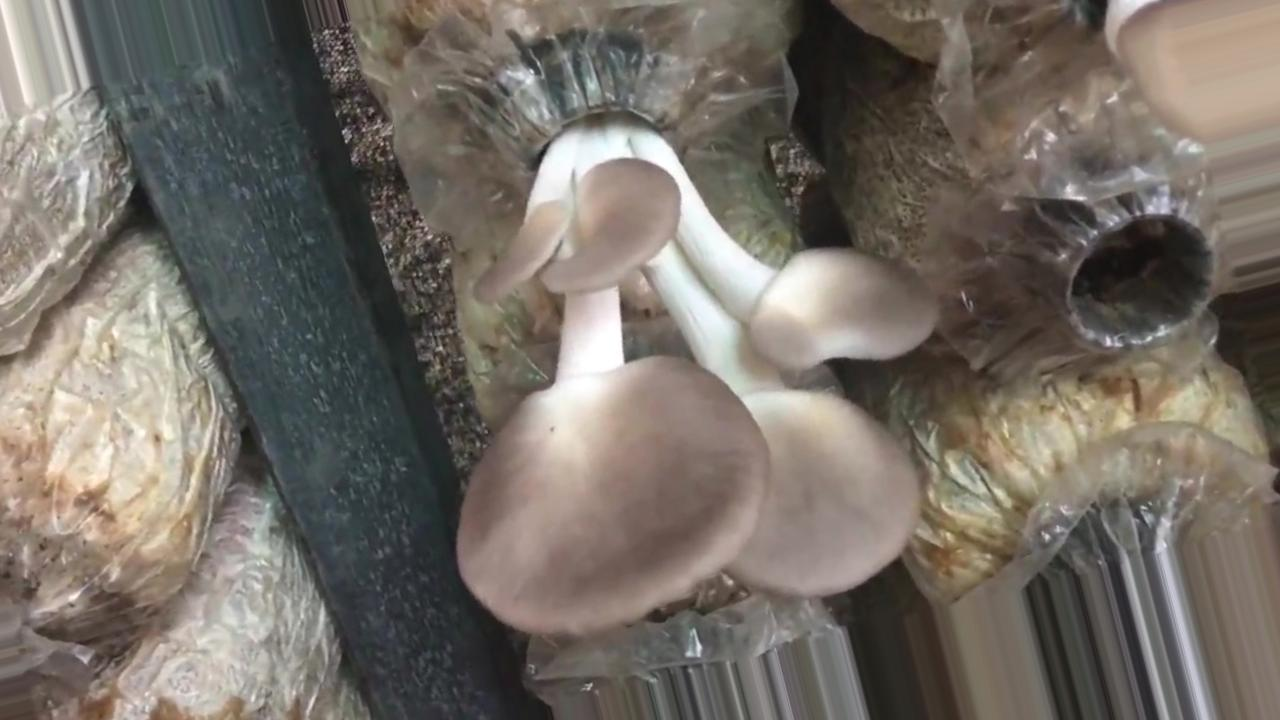nam: (457, 53, 934, 632)
